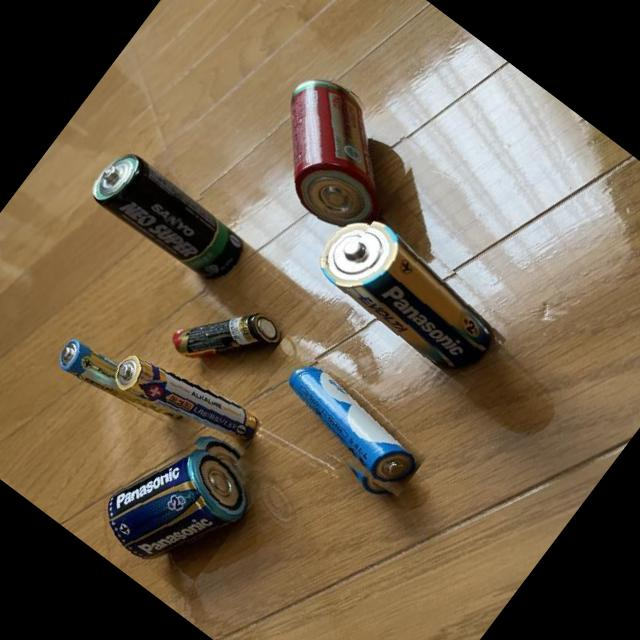Hazard: (296, 195, 521, 398), (236, 57, 430, 246), (85, 408, 268, 594), (77, 135, 258, 297), (253, 348, 434, 510), (104, 332, 266, 478), (45, 324, 188, 448), (159, 272, 291, 404)
